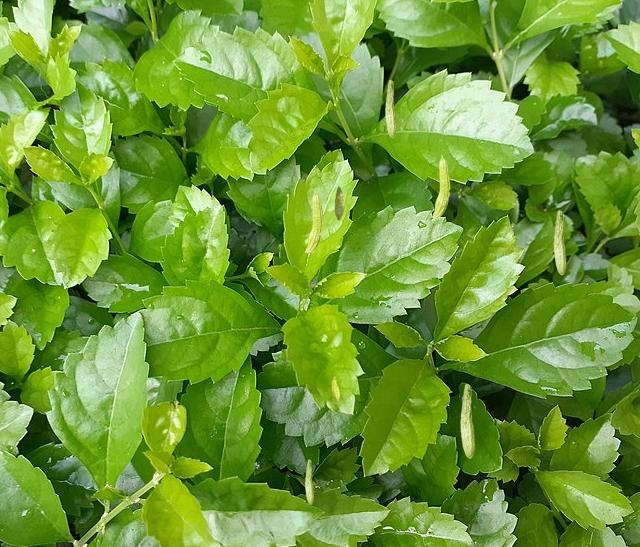ampalaya: (431, 154, 450, 218), (304, 189, 323, 253), (460, 383, 475, 458), (553, 210, 566, 275), (385, 79, 396, 138), (304, 459, 314, 505), (333, 186, 345, 220), (330, 373, 340, 403)
